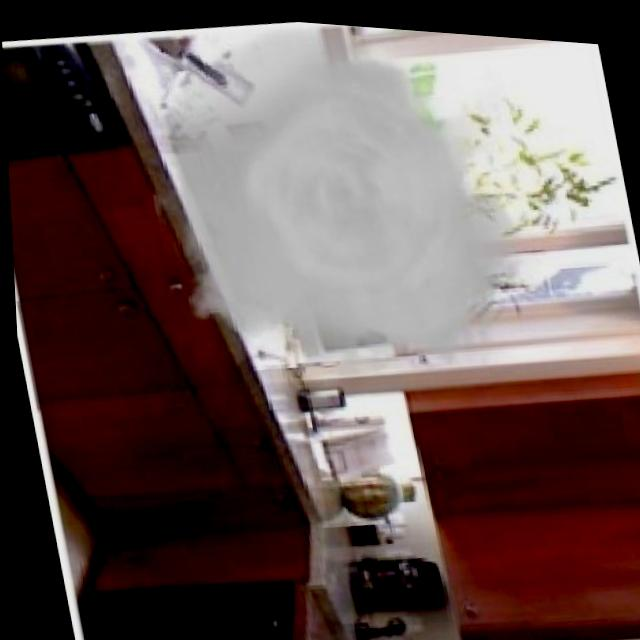Smoke: (132, 30, 525, 402)
